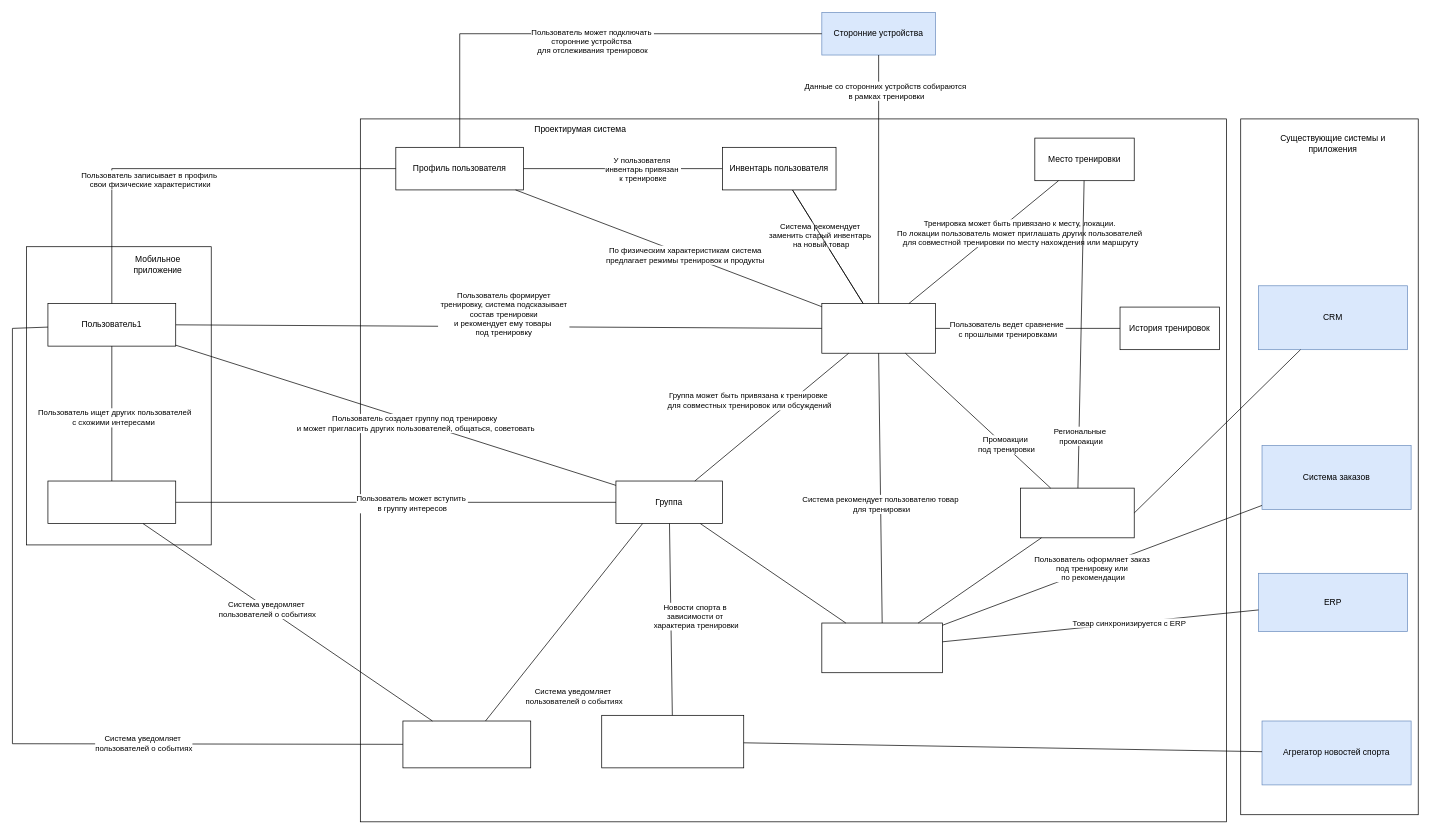
This 1431x834 diagram has some shape labels left out. The shapes that lost their labels are listed below. From the top down, each one's centre as x and y in pixels, then its label:
the point at 878,328: Тренировка
the point at 111,502: ПользовательN
the point at 1077,512: Промоакции
the point at 882,647: Товар
the point at 466,744: Управление уведомлениями
the point at 672,741: Управление новостями спорта
